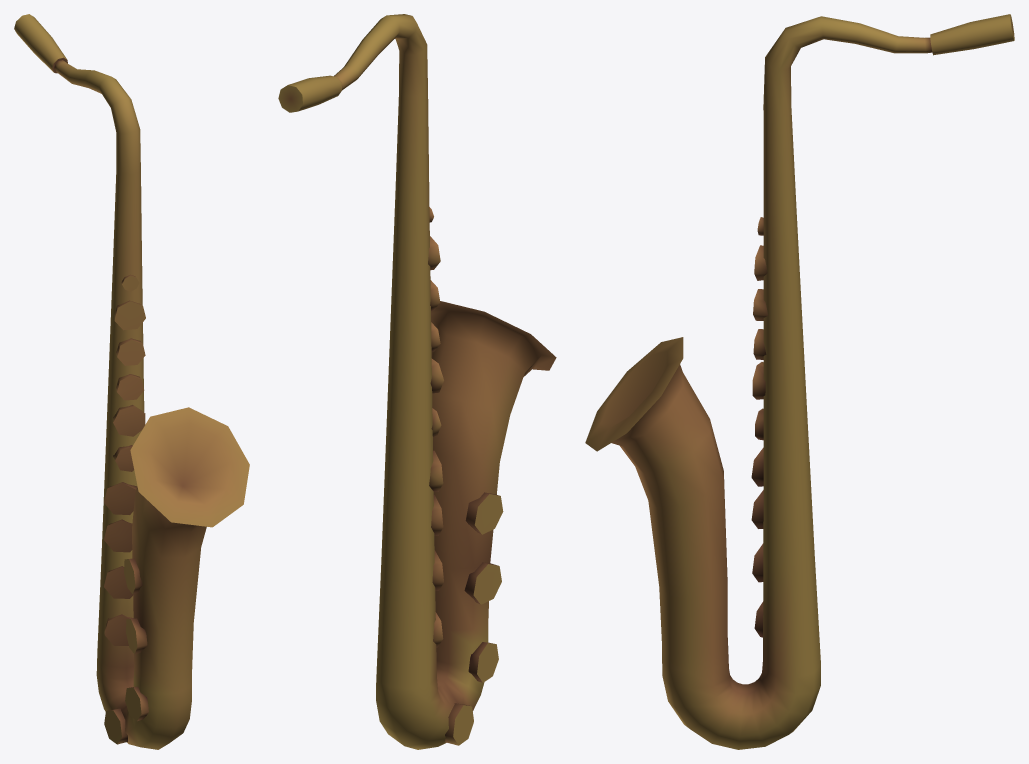
The model's file is human-music-saxophone_v1.fbx.
The picture shows the model from 3 angles, left to right: view 1: azimuth 30°, elevation 25°; view 2: azimuth 150°, elevation 25°; view 3: azimuth 270°, elevation 25°; orthographic projection. The views are drawn at different scales.
Parts seen in each view (by area): view 1: Saxophone.001; view 2: Saxophone.001; view 3: Saxophone.001.
Boxes of the visible parts, left/top/right/bottom form: Saxophone.001: left=14, top=14, right=249, bottom=749; Saxophone.001: left=278, top=14, right=556, bottom=749; Saxophone.001: left=585, top=14, right=1014, bottom=749.
Size of the model in its own units: 0.1447 by 0.8 by 0.4255.
